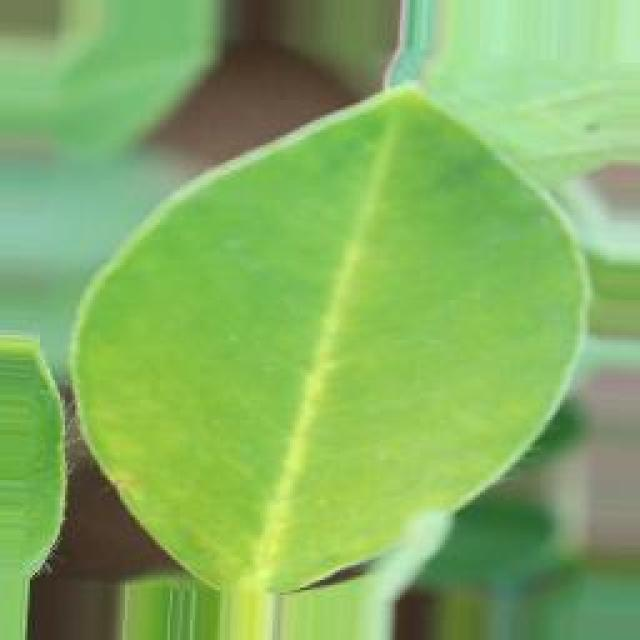Yellow_and_black_sigatoka: (55, 70, 599, 596)
